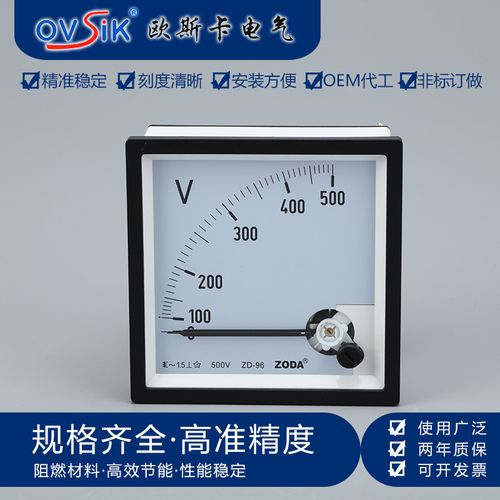pointer: (140, 153, 384, 388)
